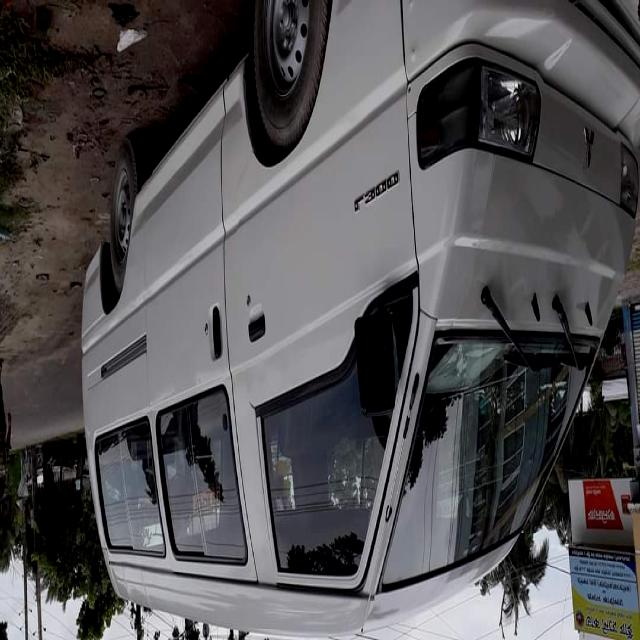white: (66, 0, 640, 640)
